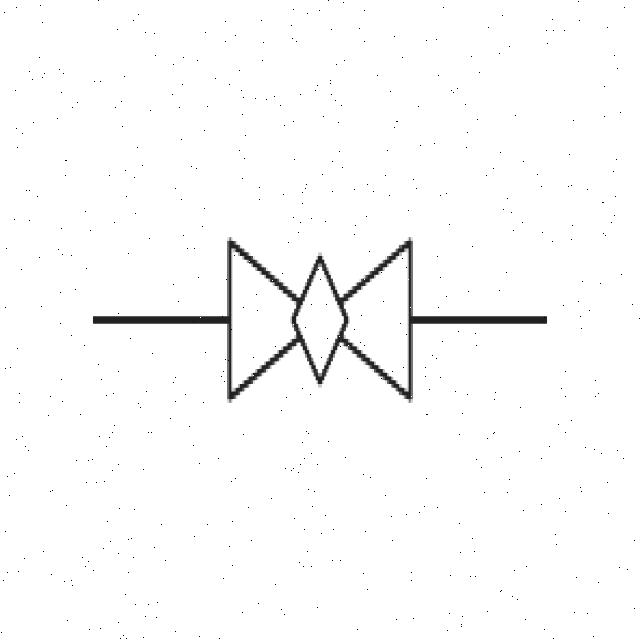Plug Valve: (177, 194, 468, 486)
